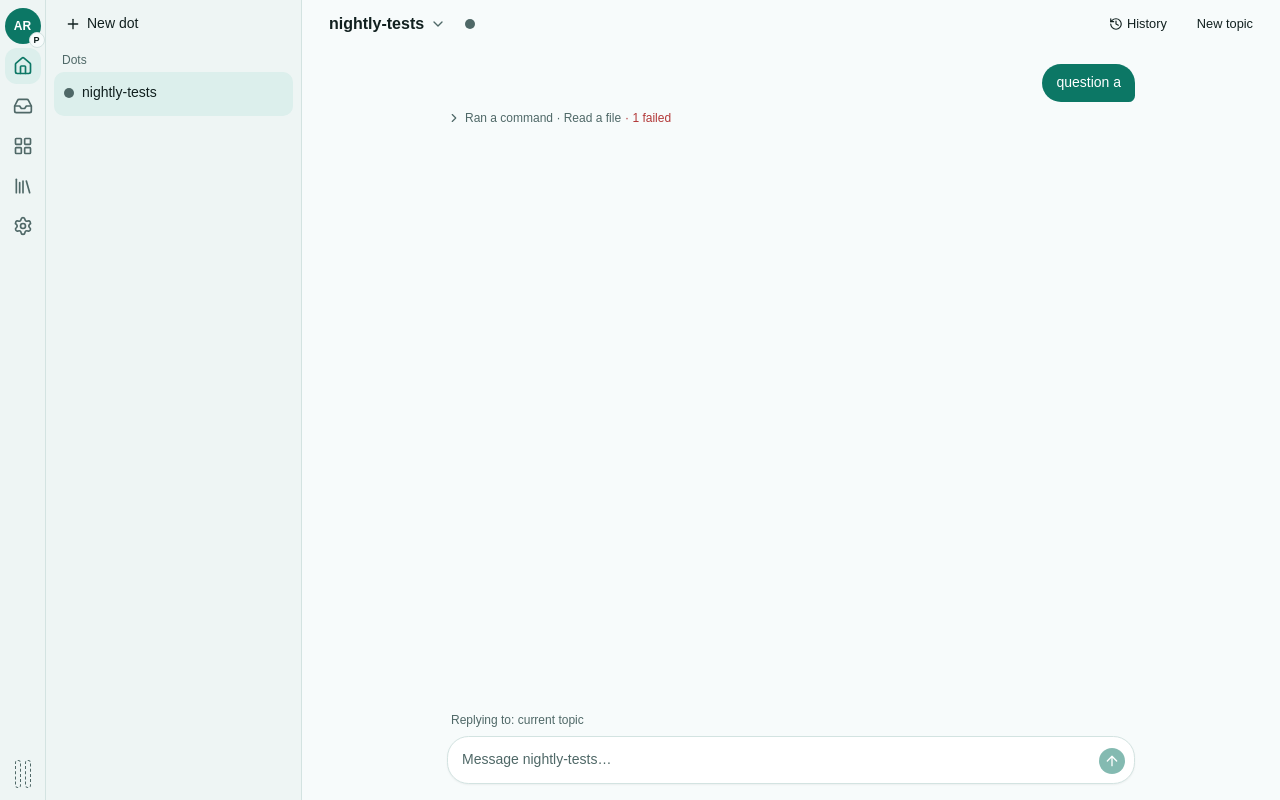
Test case: the conversation as a document (deep-teal spec section 4) › shows a run's tool steps as one row of chips, each opening to its details
// The chips are under the steps line.
Click the text "Ran a command · Read a file". click: [543, 118]
box: 465,110 -> 621,126
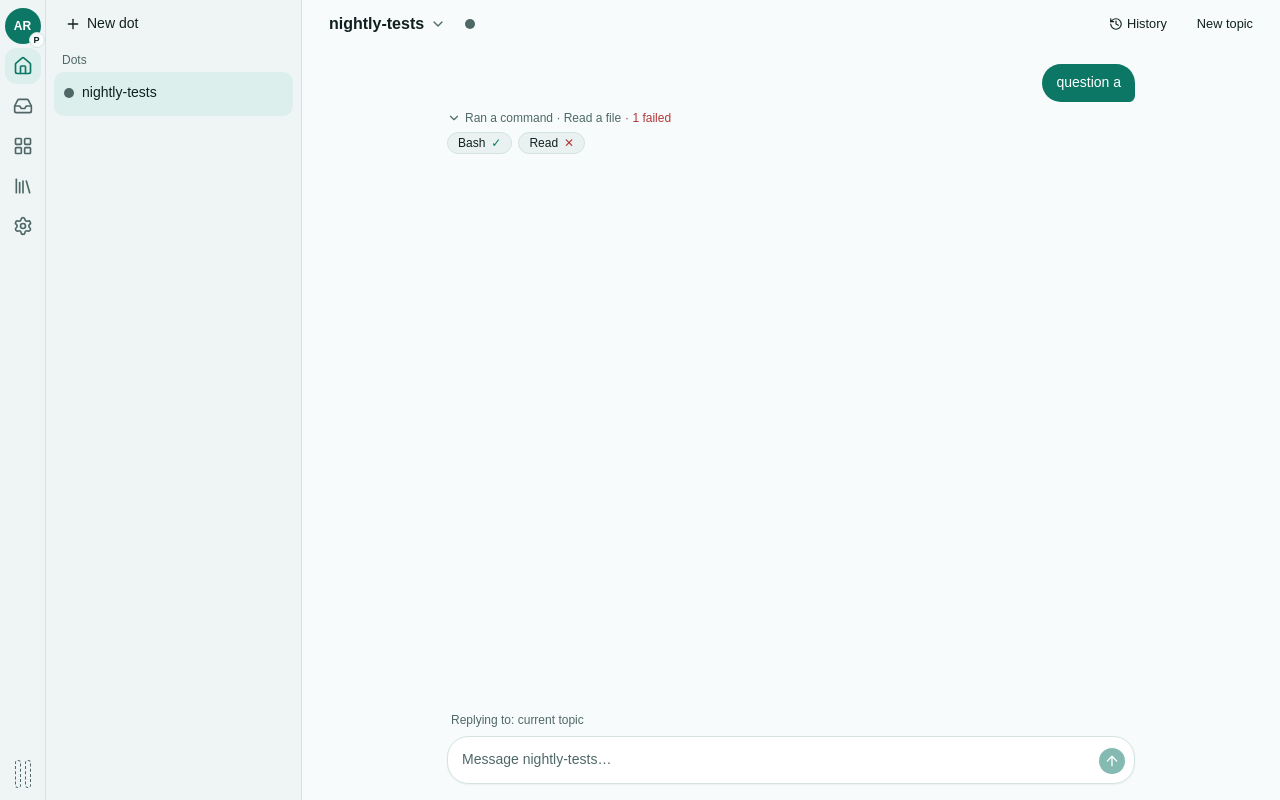
Expected: the text "no such file" is not shown
Result: the text "Bash" is shown at 458,135 -> 485,151
Click the text "Read". click: [544, 143]
box: 529,135 -> 558,151
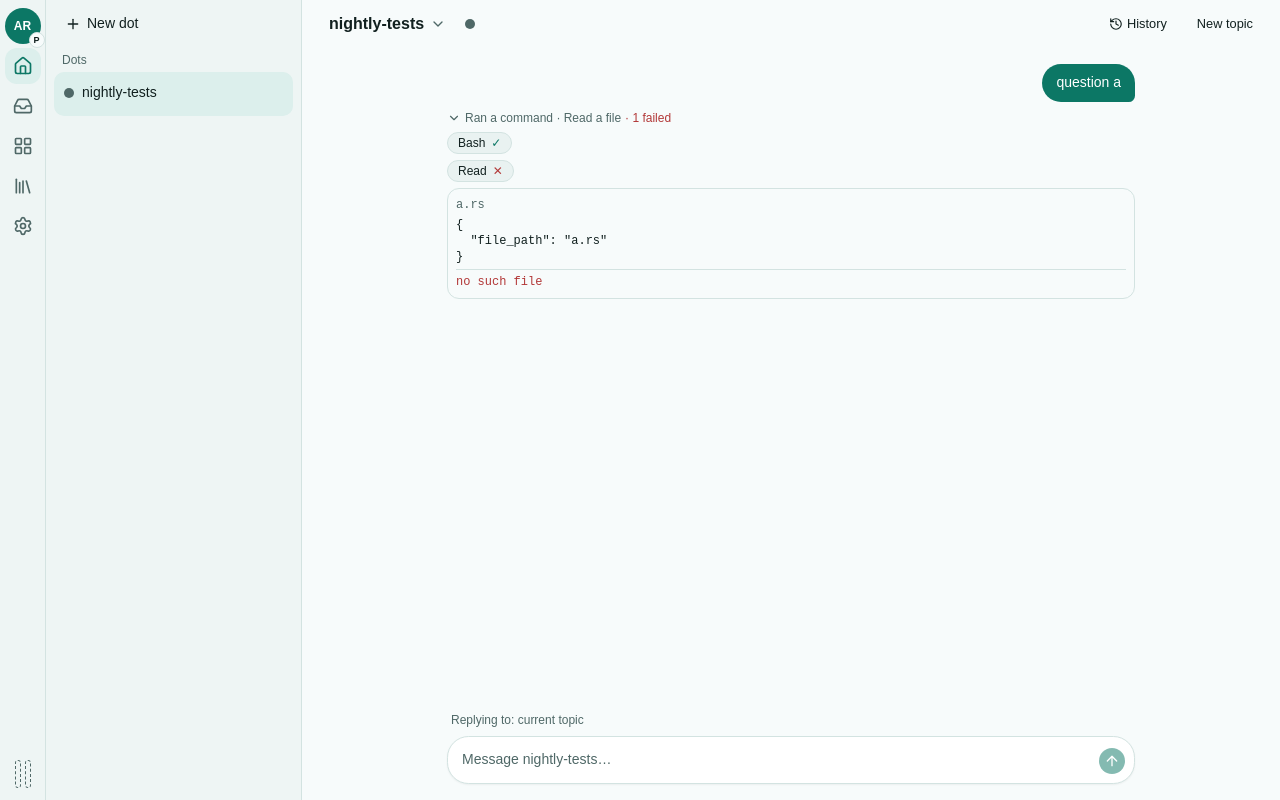
Result: the text "no such file" is shown at 456,269 -> 1126,290
Result: the text "a.rs" is shown at 456,198 -> 485,212
